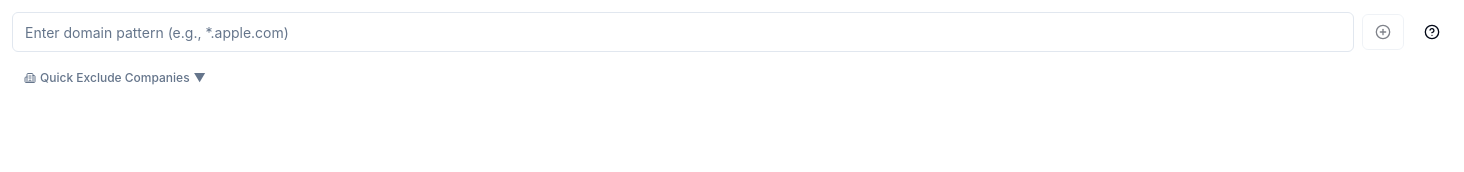
🧱 DomainExclusionInput Component › Pattern Validation › should reject overly broad patterns
This screenshot has width=1464, height=172.
Type "*" into the field with placeholder "Enter domain pattern (e.g., *.apple.com)".
click(683, 32); type("*")  # box [12, 12, 1354, 52]
Then press Enter
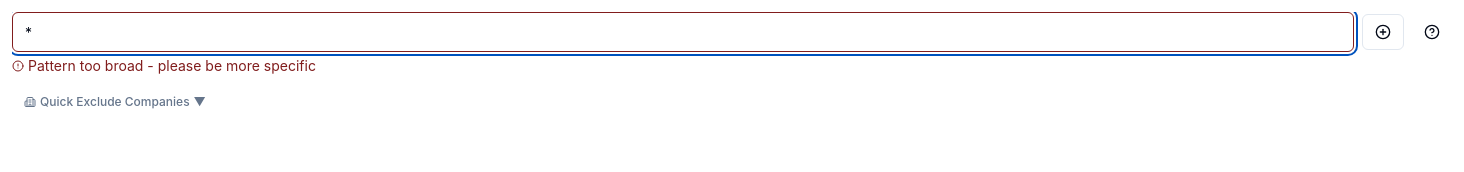
Expected: the text "Pattern too broad - please be more specific" is shown, [28, 56, 316, 76]
